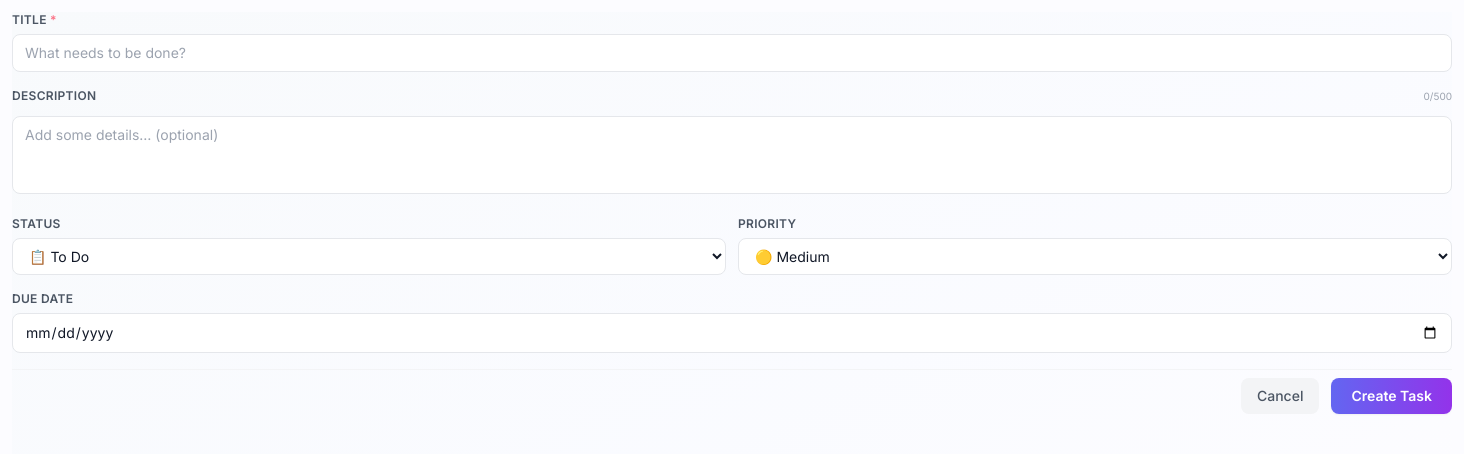
Test: Title validation (Req 11.4) › shows an error when title is 1 char (too short)
The image size is (1464, 454).
In the field labelled "Title *": (732, 53) [12,34,1452,72], type "ab"
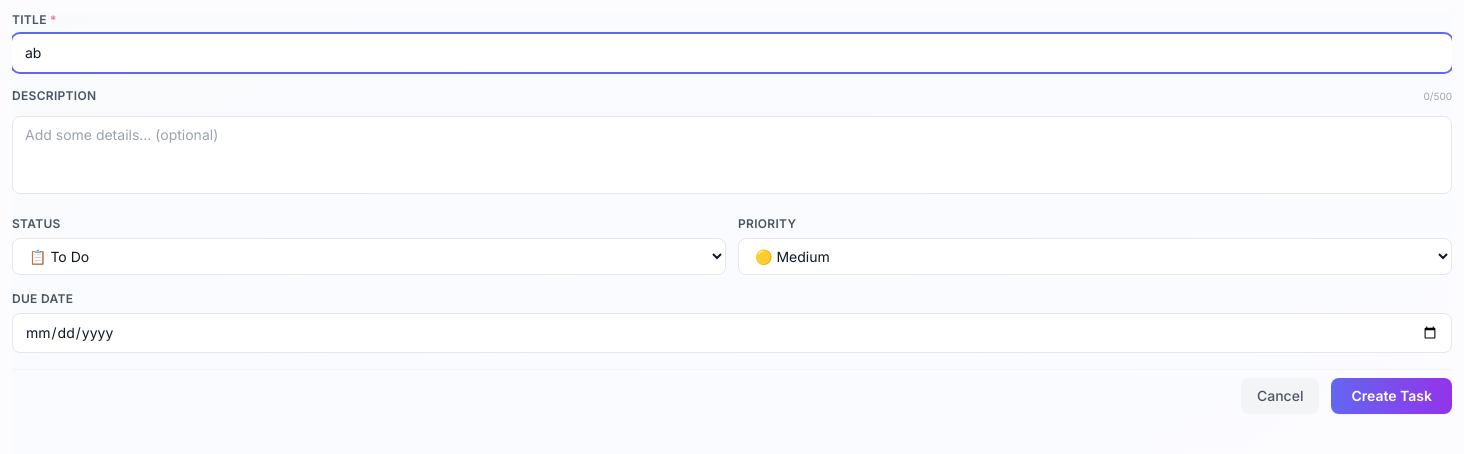
Click the button "Create Task": (1392, 396) [1331,378,1452,414]
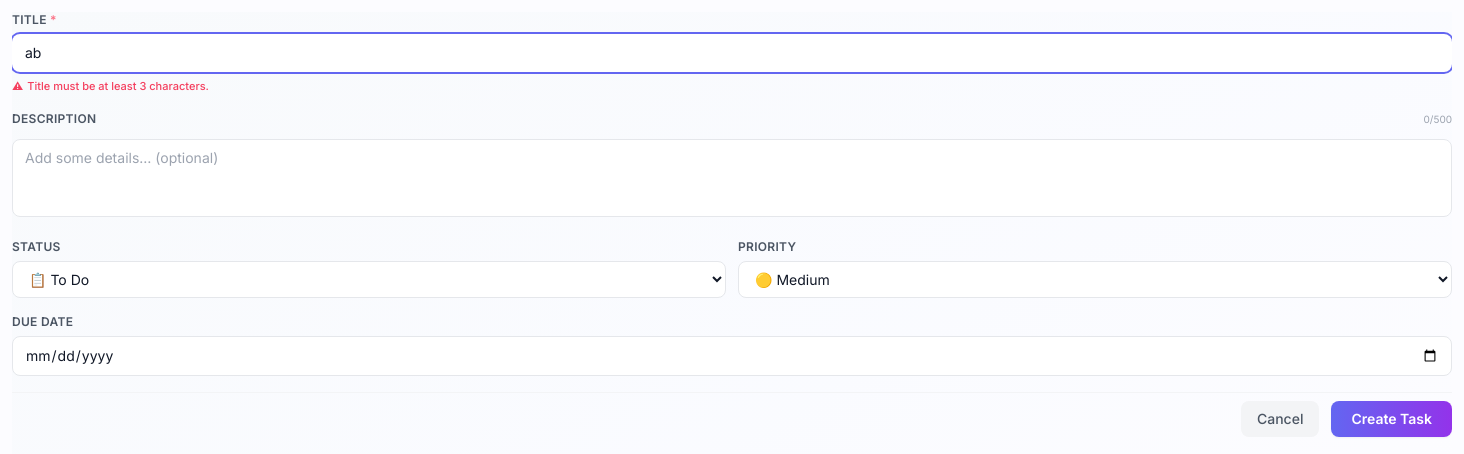
Expected: the message shows "Title must be at least 3 characters", [27,79,209,93]
